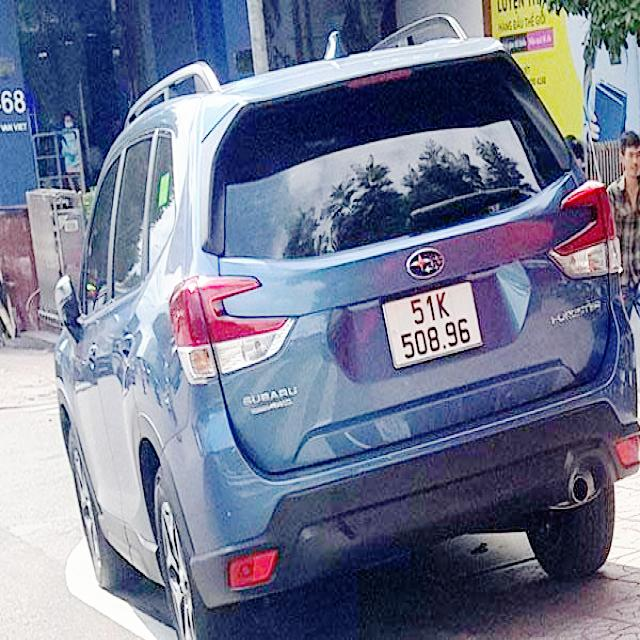license_plate: (383, 280, 482, 367)
